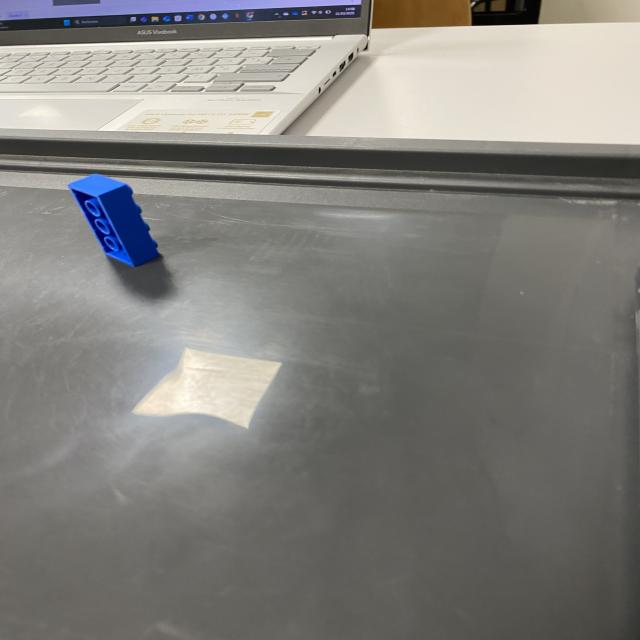C4x2x1: (71, 187, 137, 268), (100, 185, 160, 266), (68, 173, 127, 197)
